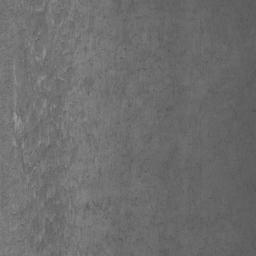Silk spot: (0, 0, 201, 256)
